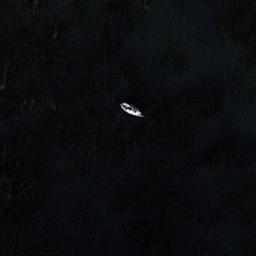boat: (118, 101, 143, 118)
